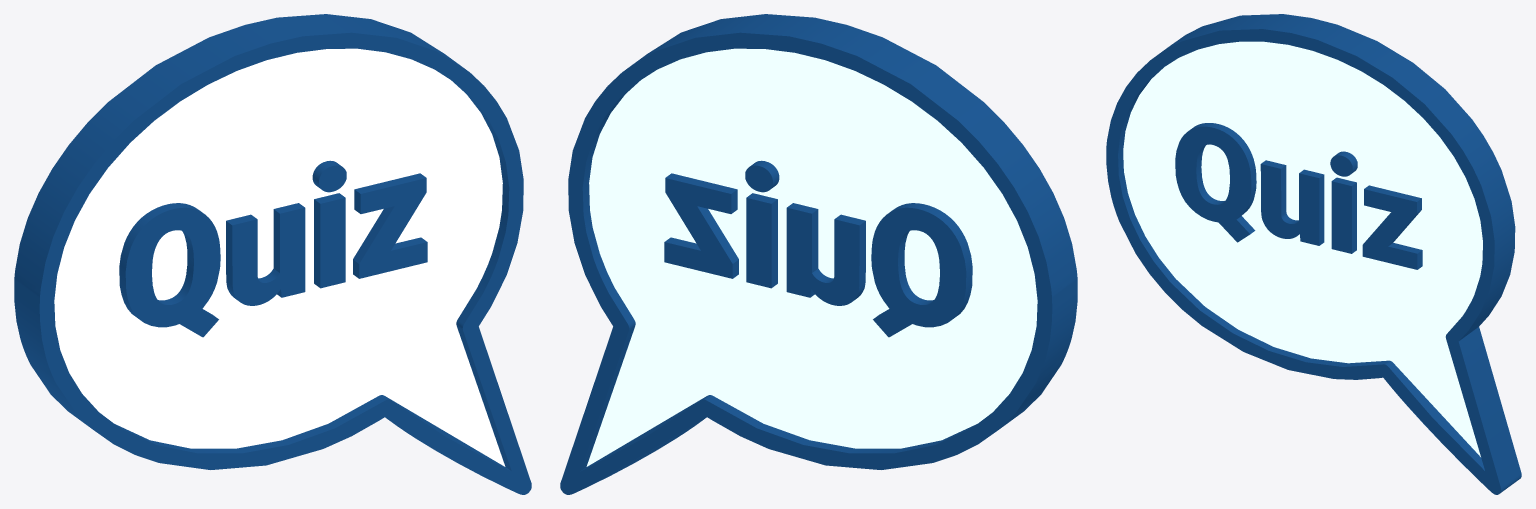
The model's file is l-icons-quiz-1.glb.
The picture shows the model from 3 angles, left to right: view 1: azimuth 30°, elevation 25°; view 2: azimuth 150°, elevation 25°; view 3: azimuth 330°, elevation 25°; orthographic projection. The views are drawn at different scales.
Visible parts, largest first — view 1: Icon_Quiz; view 2: Icon_Quiz; view 3: Icon_Quiz.
Boxes of the visible parts, box(x1,y1,x2,y2) form: Icon_Quiz: box(14, 14, 531, 494); Icon_Quiz: box(560, 14, 1077, 494); Icon_Quiz: box(1106, 14, 1521, 494).
Bounding box in the file's own units: 0.5554 × 0.5536 × 0.05.
